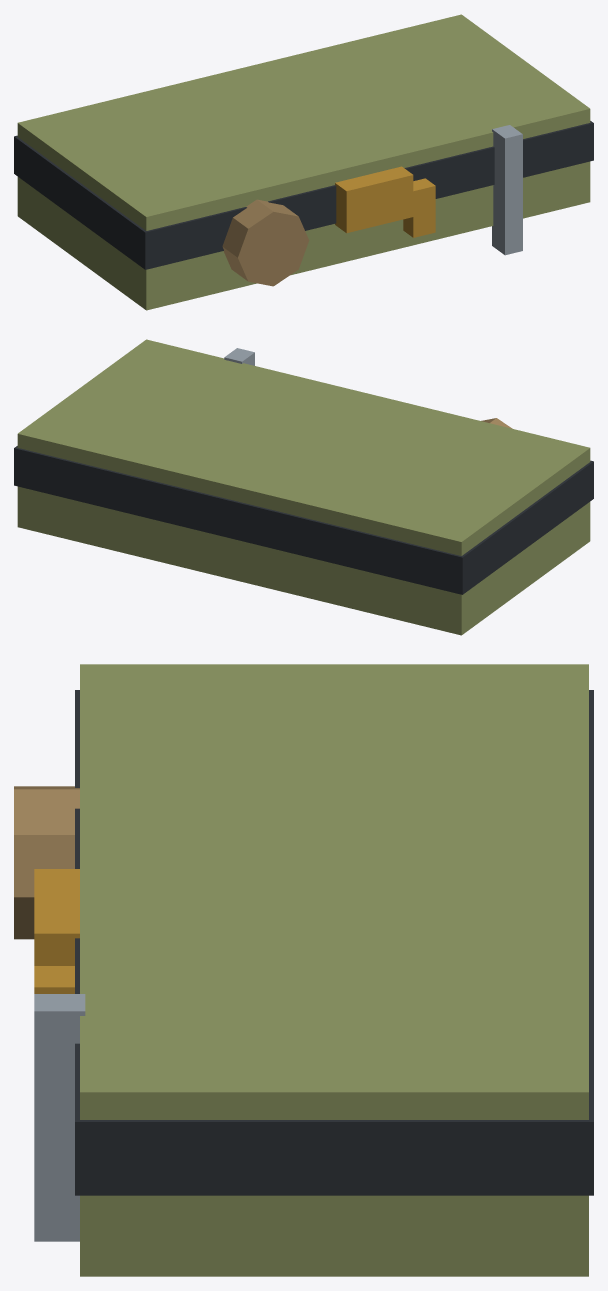
The model's file is pc_engineer_lower_torso.fbx.
3 renders of one model, top to bottom at view 1: azimuth 30°, elevation 25°; view 2: azimuth 150°, elevation 25°; view 3: azimuth 270°, elevation 25°, orthographic. The views are drawn at different scales.
Visible parts, largest first — view 1: pc_engineer_lower_torso; view 2: pc_engineer_lower_torso; view 3: pc_engineer_lower_torso.
Boxes of the visible parts, box(x1,y1,x2,y2) form: pc_engineer_lower_torso: box(14, 14, 593, 310); pc_engineer_lower_torso: box(14, 339, 593, 635); pc_engineer_lower_torso: box(14, 664, 593, 1276).
Size of the model in its own units: 201 by 50 by 114.
